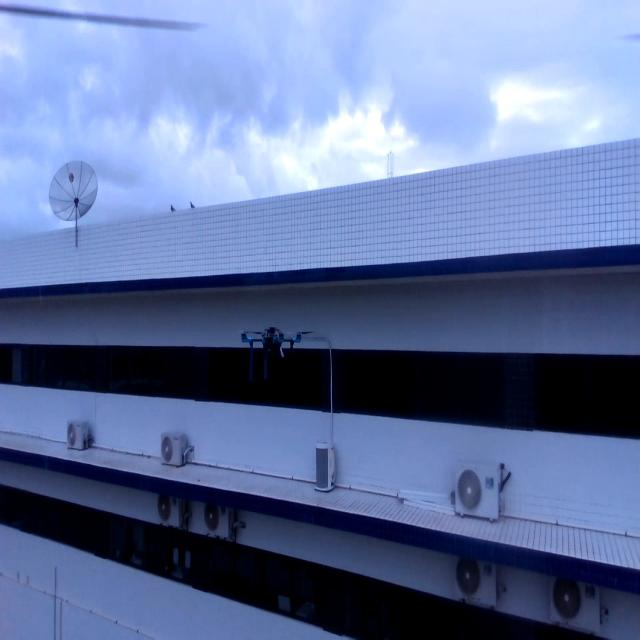-uav-: (231, 289, 314, 416)
